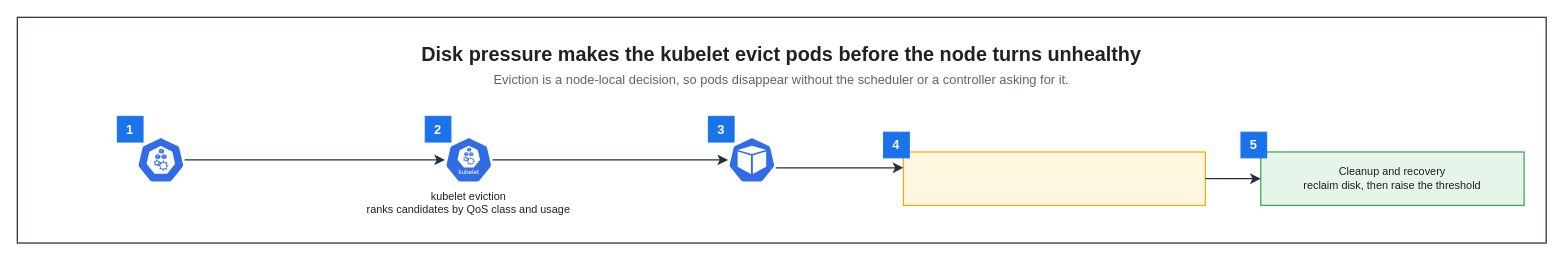
Some shapes in this 1564 by 261 pixel diagram are drawn without their labels. The shapes that lost their labels are listed below. From the top down, each one's centre as x and y in pixels, then its label:
point 160,159: Node disk pressure nodefs or imagefs past the threshold
point 751,159: Evicted Pods phase Failed, reason Evicted
point 1054,178: Workload impact controllers recreate, capacity may not exist
